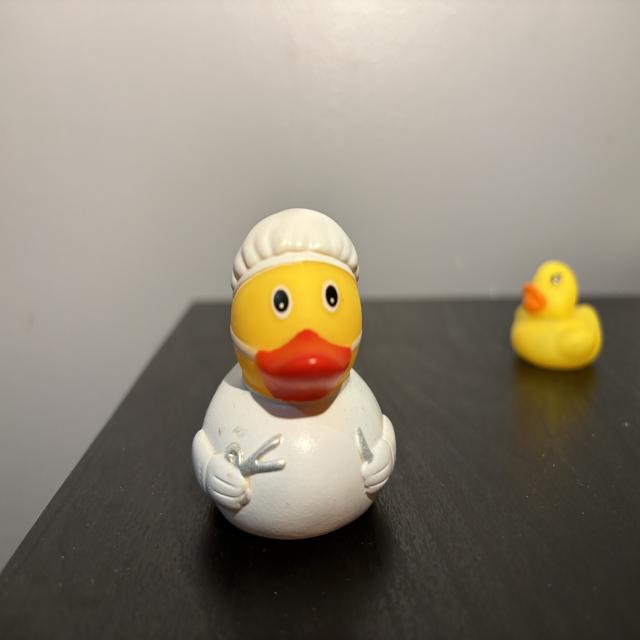duck_regular: (512, 261, 603, 371)
duck_specialty: (193, 209, 397, 541)
